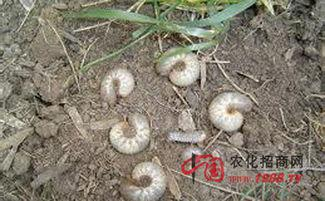grub: (105, 112, 162, 162)
